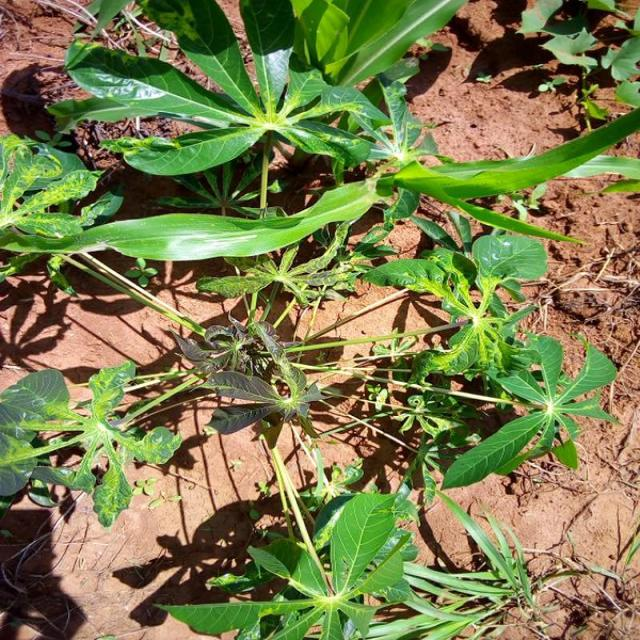cassava leaf: (2, 174, 388, 263), (440, 330, 618, 490)
